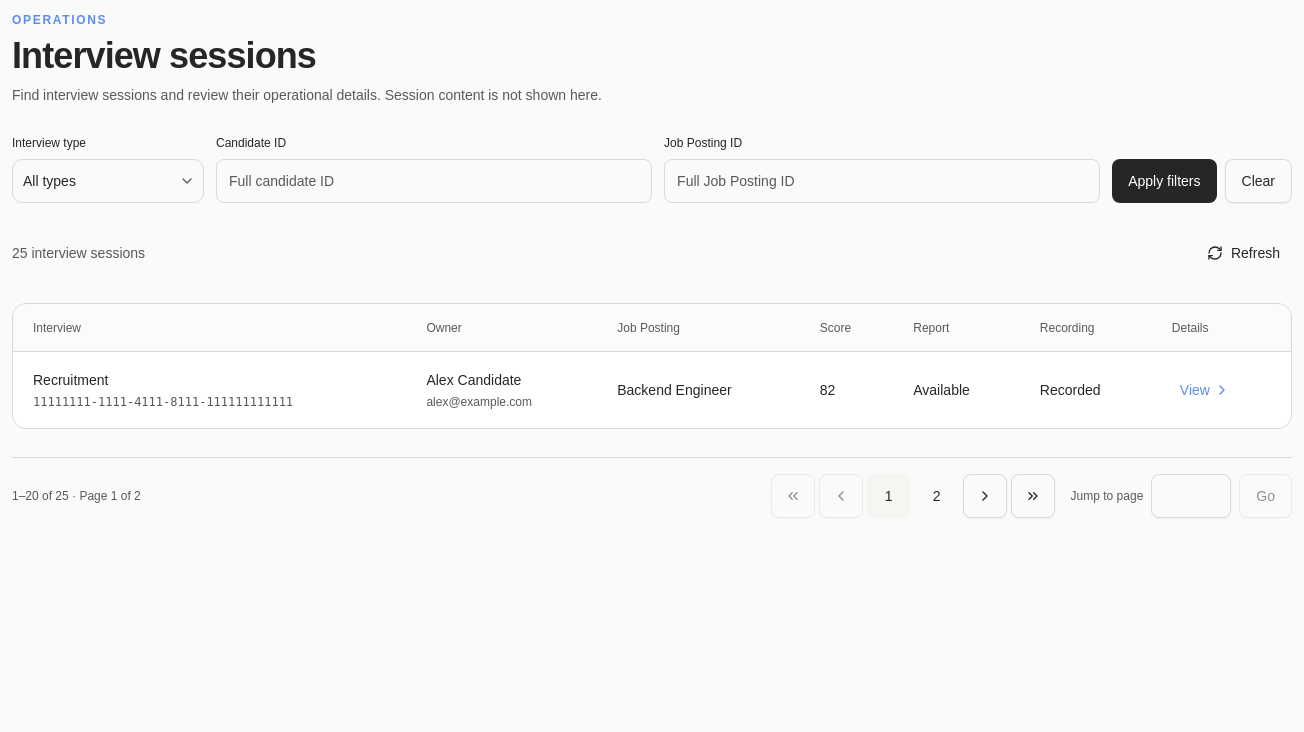
it: AdminInterviewSessions › pages forward and requests the next page
Check: the table named "Interview sessions" is shown, box [13,304,1291,428]
Click the button named "Next page": {"x": 985, "y": 496} [963,474,1007,518]
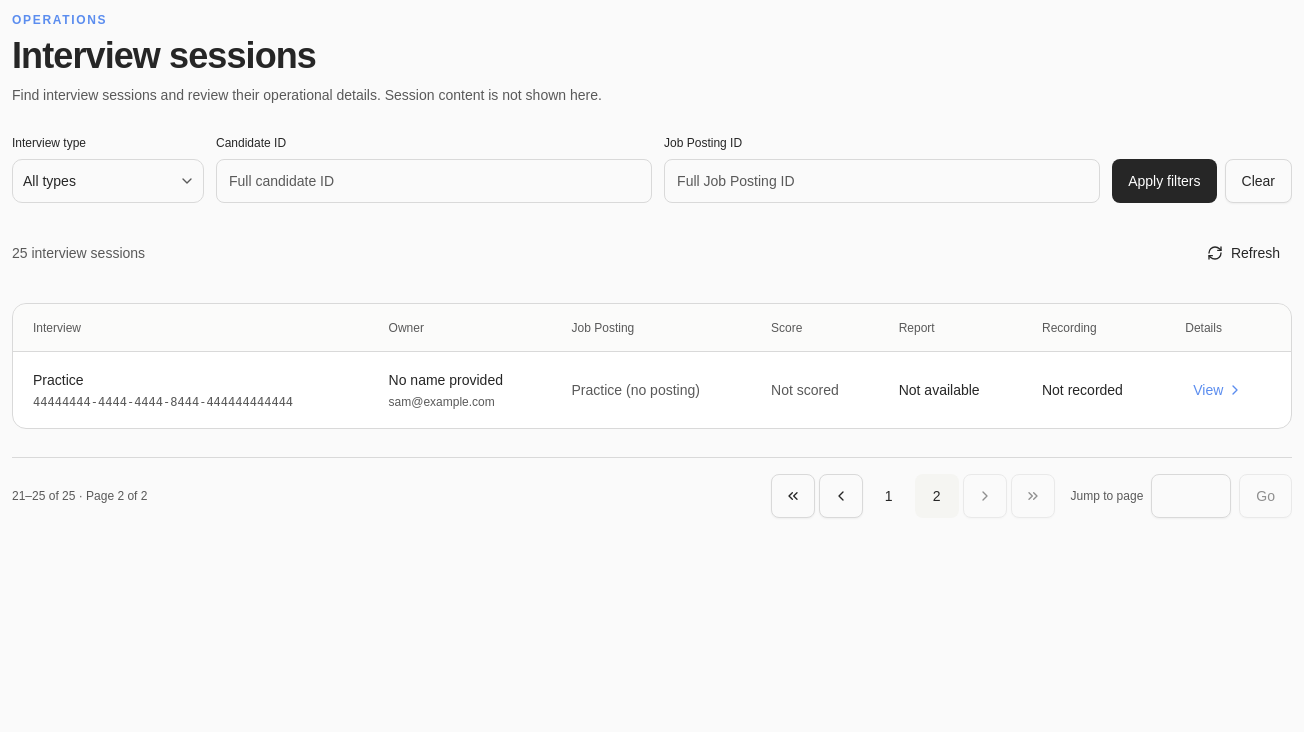
Check: the text "sam@example.com" is shown, box [389,395,495,409]
